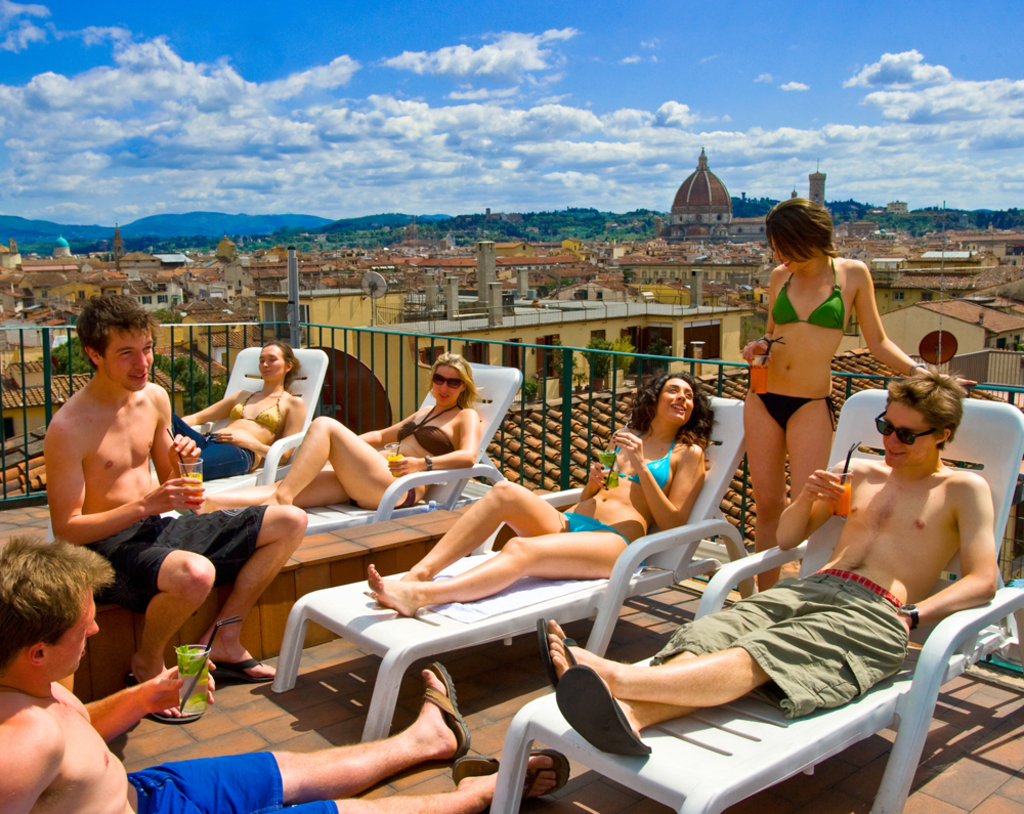Person: (0, 197, 996, 814)
